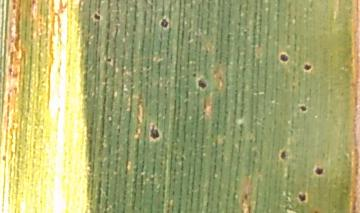tarspot: (148, 123, 163, 141), (313, 166, 327, 178), (197, 77, 209, 90), (278, 51, 290, 63), (295, 192, 308, 203), (90, 11, 102, 22), (160, 17, 170, 30), (301, 62, 313, 72), (280, 149, 289, 161), (298, 103, 308, 113), (105, 56, 112, 63), (192, 72, 197, 79), (2, 155, 7, 162)
